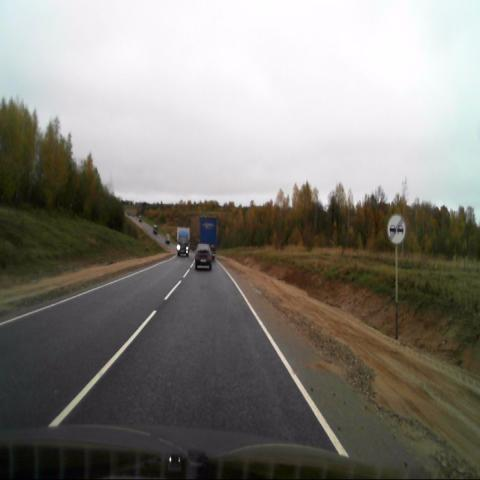3_21: (388, 213, 406, 247)
